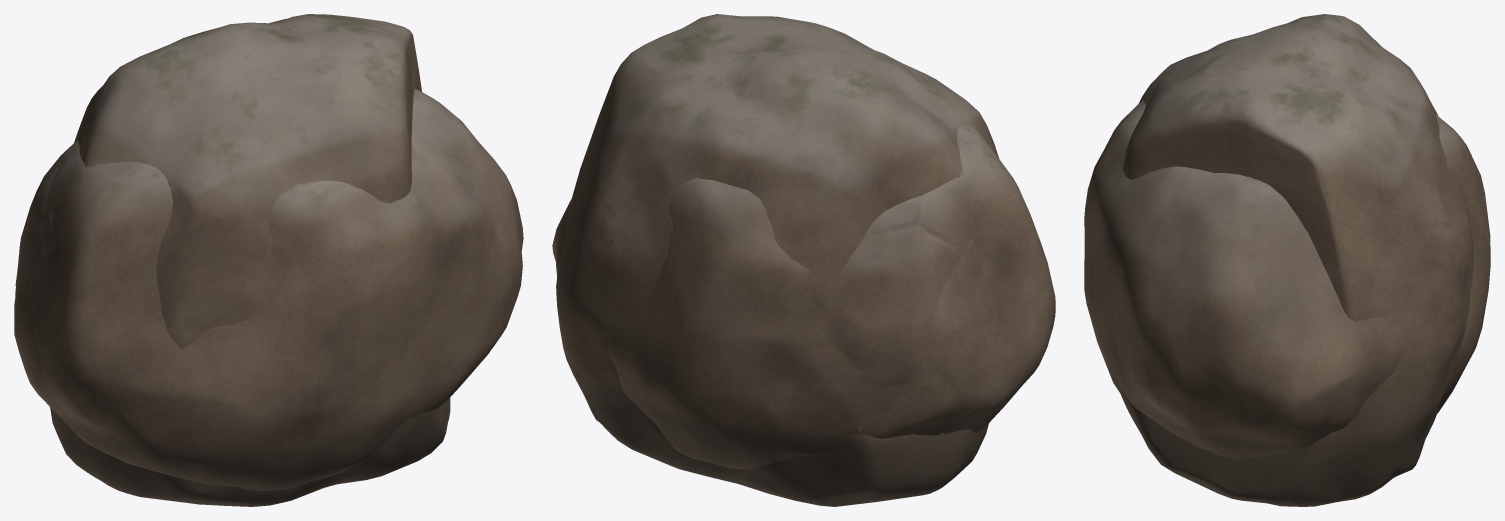
File: rocks.glb
3 views of the same model, side by side, from view 1: azimuth 30°, elevation 25°; view 2: azimuth 150°, elevation 25°; view 3: azimuth 270°, elevation 25° (orthographic). The views are drawn at different scales.
Visible parts, largest first — view 1: rock_01, rock_02; view 2: rock_02, rock_01; view 3: rock_02, rock_01.
Part boxes in pixels (x1,y1,x2,y2): rock_01: (14,88,523,490); rock_02: (50,14,450,506); rock_02: (556,14,999,506); rock_01: (552,125,1055,469); rock_02: (1118,14,1473,506); rock_01: (1084,100,1490,459).
Bounding box in the file's own units: 3 × 2.6 × 2.35.
1 material, 1 textured.
